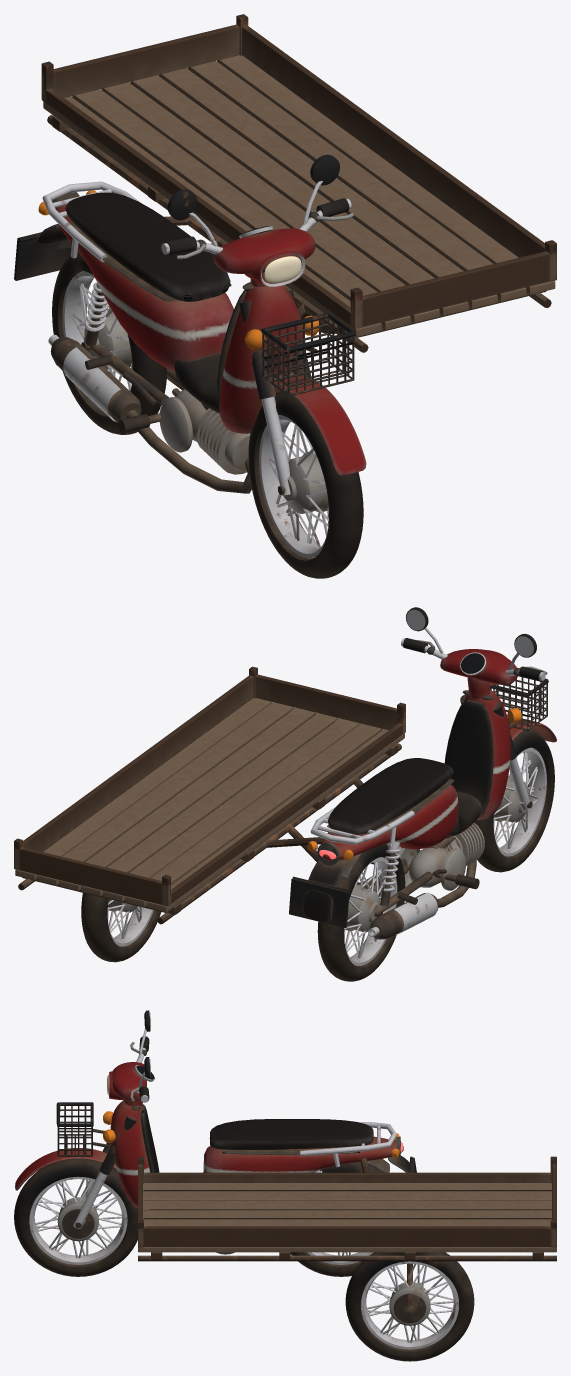
Rendered from SalengV2.fbx.
The picture shows the model from 3 angles, top to bottom: view 1: azimuth 30°, elevation 25°; view 2: azimuth 150°, elevation 25°; view 3: azimuth 270°, elevation 25°; orthographic projection. The views are drawn at different scales.
Visible parts, largest first — view 1: Saleng, FrontWheel, Handlebar, RearWheel, LicensePlateFrame, Headlight_Neon; view 2: Saleng, FrontWheel, RearWheel, Handlebar, SidecarWheel, LicensePlateFrame; view 3: Saleng, FrontWheel, SidecarWheel, Handlebar, RearWheel.
Part boxes in pixels (<box>): Saleng: <box>37,14,556,493</box>; FrontWheel: <box>248,391,363,578</box>; Handlebar: <box>161,154,366,495</box>; RearWheel: <box>52,251,166,434</box>; LicensePlateFrame: <box>14,232,71,280</box>; Headlight_Neon: <box>264,256,301,283</box>; Saleng: <box>14,666,548,939</box>; FrontWheel: <box>474,728,554,872</box>; RearWheel: <box>317,843,405,981</box>; Handlebar: <box>401,607,556,810</box>; SidecarWheel: <box>81,893,161,962</box>; LicensePlateFrame: <box>289,876,350,927</box>; Saleng: <box>56,1100,556,1312</box>; FrontWheel: <box>14,1159,137,1276</box>; SidecarWheel: <box>345,1252,474,1361</box>; Handlebar: <box>15,1010,155,1228</box>; RearWheel: <box>290,1162,382,1276</box>.
Bounding box in the file's own units: 134 × 119 × 243.
6 materials, 4 textured.
